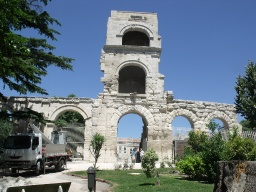truck: (3, 123, 72, 178)
